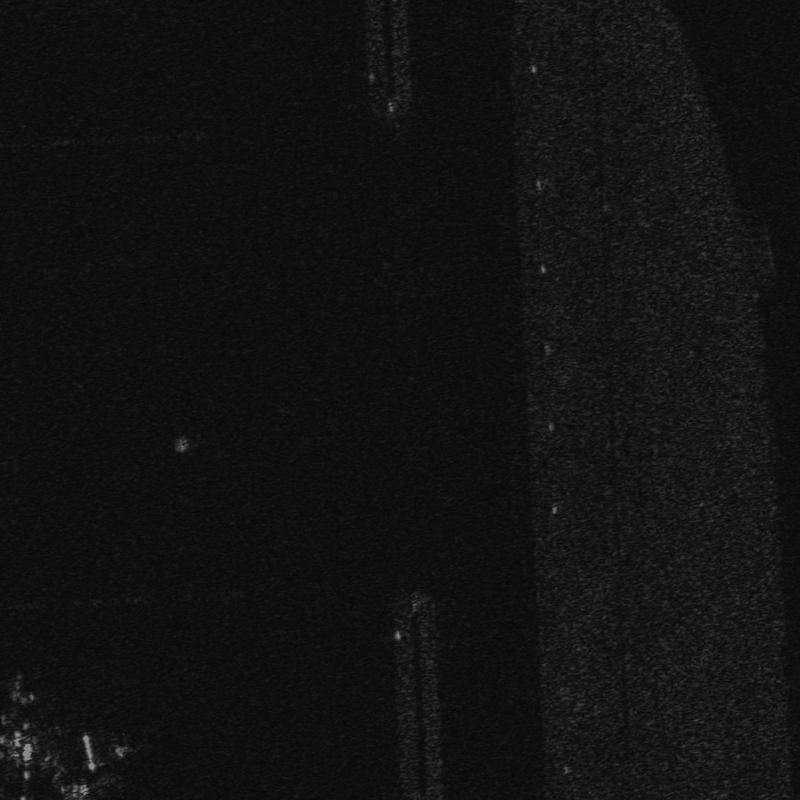A320/321: (1, 669, 50, 776)
